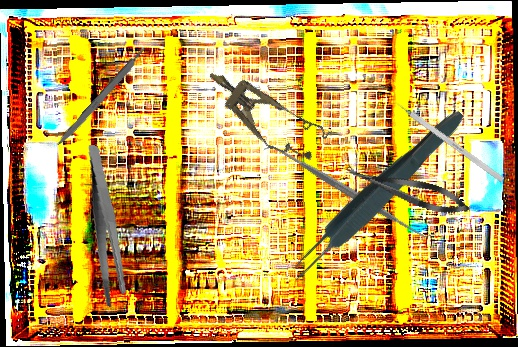Dressing Forceps: (69, 144, 143, 309)
Hook Surgical: (387, 95, 505, 183)
Micro Scissor: (342, 157, 473, 222)
Scalpel Handle: (55, 46, 149, 149)
Spatula Surgical: (262, 133, 438, 251)
Speculum: (195, 53, 333, 173)
Tissue Forceps: (280, 102, 472, 288)
